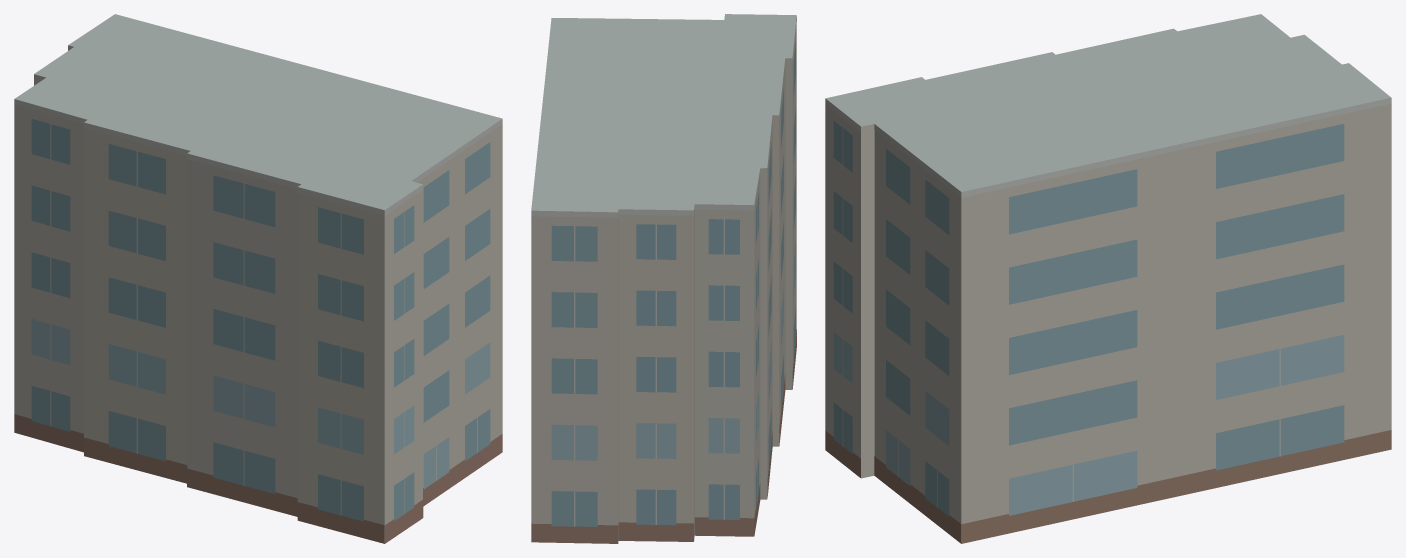
The model's file is survey-upis-32658670.glb.
3 renders of one model, left to right at view 1: azimuth 30°, elevation 25°; view 2: azimuth 150°, elevation 25°; view 3: azimuth 270°, elevation 25°, orthographic. The views are drawn at different scales.
Visible parts, largest first — view 1: survey-upis-32658670.tmp; view 2: survey-upis-32658670.tmp; view 3: survey-upis-32658670.tmp.
Part boxes in pixels (left/top/right/bottom): survey-upis-32658670.tmp: left=14, top=14, right=502, bottom=543; survey-upis-32658670.tmp: left=531, top=14, right=796, bottom=543; survey-upis-32658670.tmp: left=825, top=14, right=1391, bottom=543.
Size of the model in its own units: 16.13 by 14.85 by 21.67.
